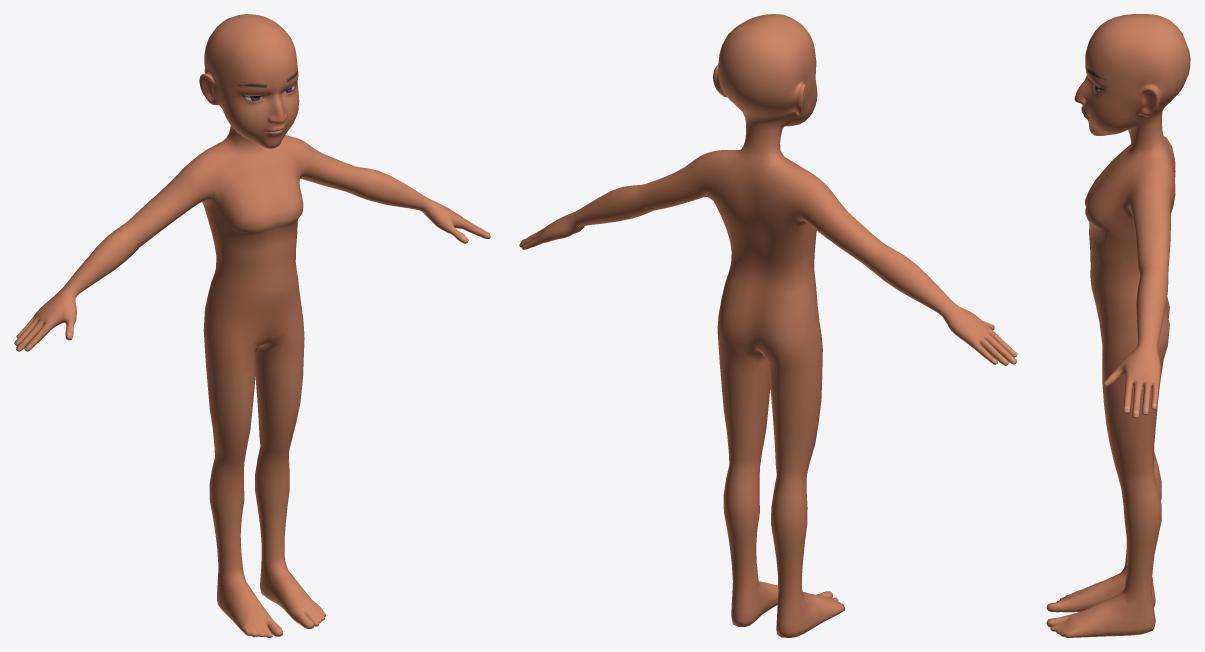
Rendered from frame_0099.glb.
The picture shows the model from 3 angles, left to right: view 1: azimuth 30°, elevation 25°; view 2: azimuth 150°, elevation 25°; view 3: azimuth 270°, elevation 25°; orthographic projection. The views are drawn at different scales.
Visible parts, largest first — view 1: frame_0099_head_geo; view 2: frame_0099_head_geo; view 3: frame_0099_head_geo.
Boxes of the visible parts, x1,y1,x2,y2 form: frame_0099_head_geo: [14, 14, 490, 637]; frame_0099_head_geo: [519, 14, 1017, 637]; frame_0099_head_geo: [1046, 14, 1190, 637].
Bounding box in the file's own units: 1.28 × 1.5 × 0.3253.
Materials: 3 (3 with a texture image).
